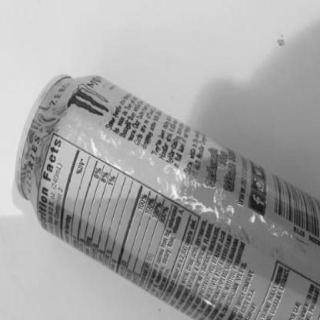alumunium_can: (14, 73, 320, 320)
